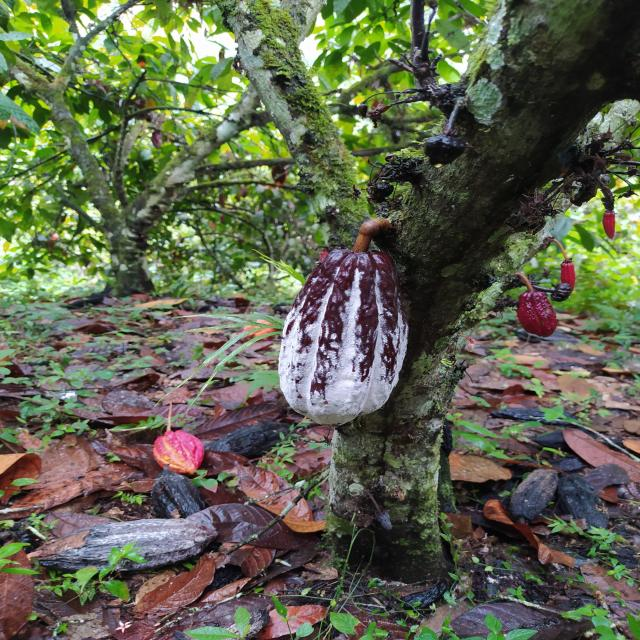Monilia: (278, 248, 410, 422)
Sana: (518, 291, 558, 338), (560, 258, 575, 292), (602, 212, 616, 240)
